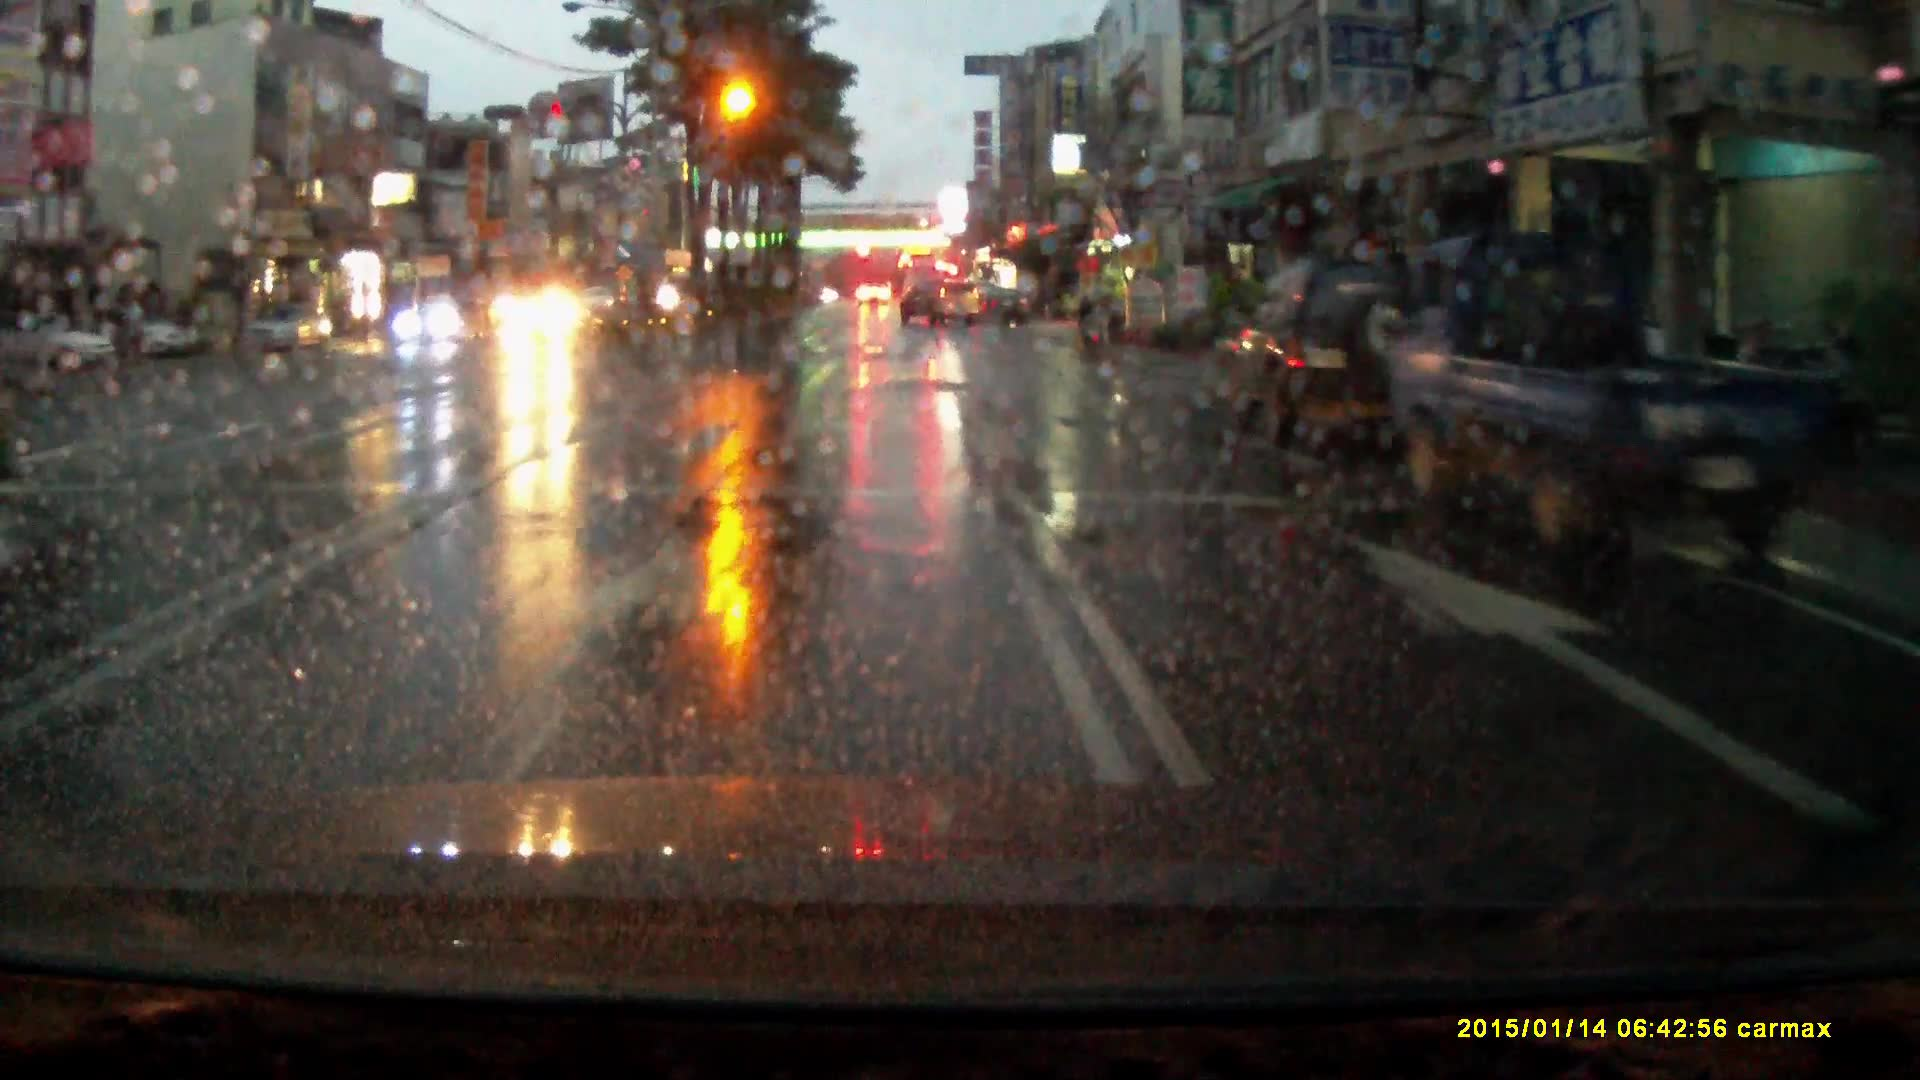vehicle: (1393, 231, 1807, 563), (1230, 255, 1429, 450), (1, 309, 123, 378), (506, 284, 589, 351), (244, 299, 334, 357), (897, 280, 980, 330), (128, 305, 198, 361), (393, 301, 469, 348), (982, 290, 1033, 330), (901, 258, 940, 309), (856, 281, 894, 310)
